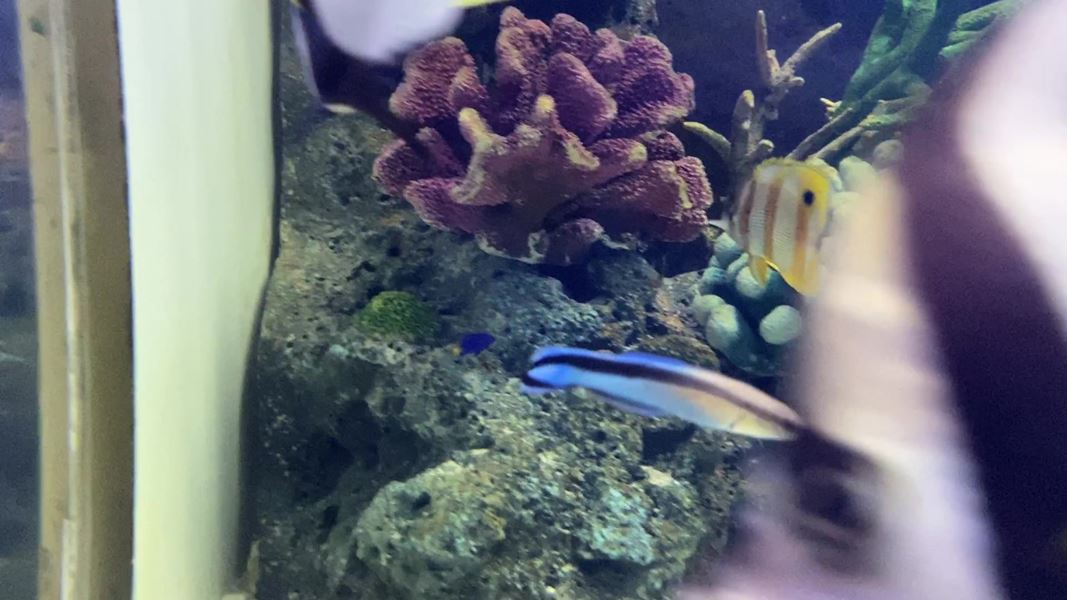Bluesteak cleaner wrasse: (511, 332, 817, 460)
